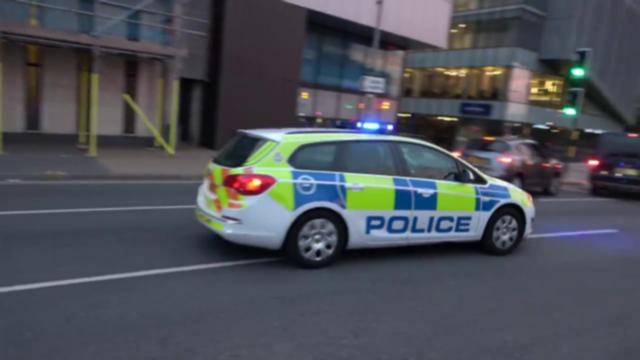police_car: (195, 118, 540, 273)
